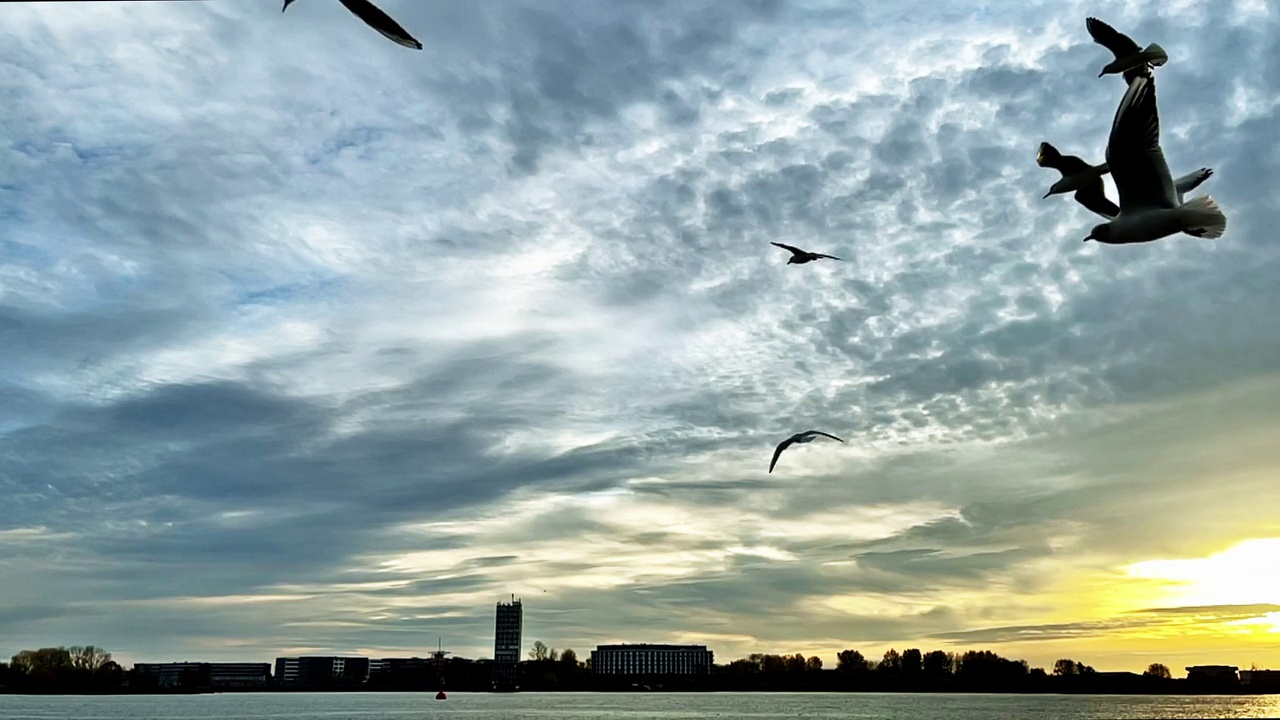bird: (1088, 76, 1225, 245), (1034, 140, 1122, 219), (280, 1, 421, 50), (1084, 16, 1165, 82), (771, 428, 843, 474), (768, 237, 840, 266)
